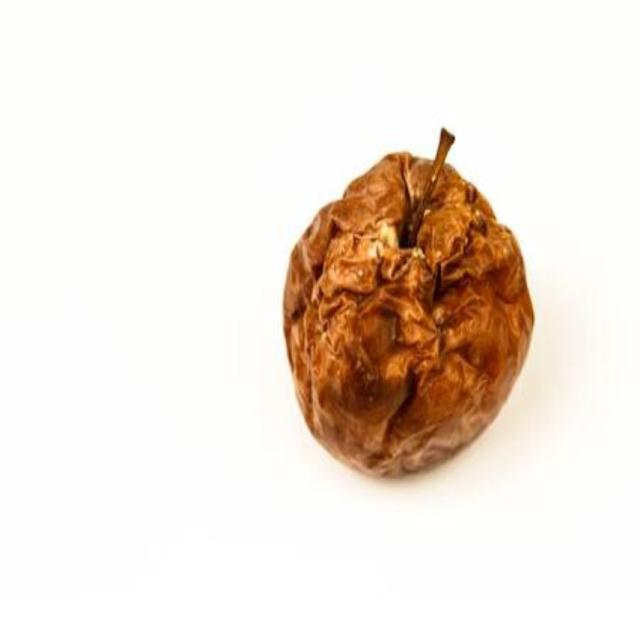Rotten Apple: (267, 147, 546, 471)
